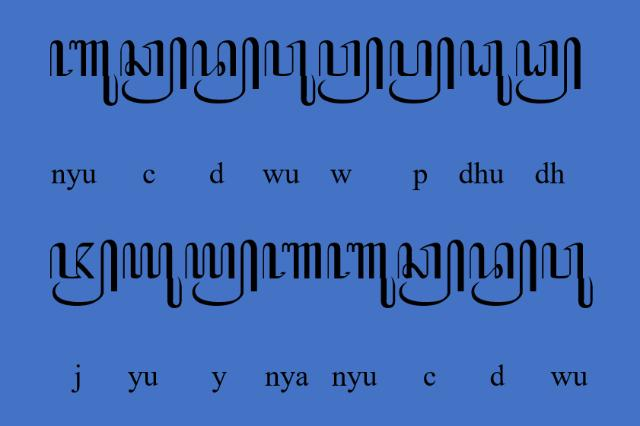-c: (398, 238, 467, 308), (120, 36, 188, 106)
-d: (467, 238, 539, 308), (192, 36, 260, 106)
-dh: (515, 37, 583, 104)
-j: (49, 239, 120, 308)
-p: (388, 35, 454, 105)
-w: (318, 36, 384, 104)
-y: (184, 238, 260, 306)
dhu: (459, 39, 513, 107)
ny1: (262, 242, 324, 282)
nyu1: (326, 240, 396, 310), (49, 39, 119, 107)
wu: (264, 39, 316, 107), (542, 241, 594, 309)
yu: (123, 242, 183, 310)
